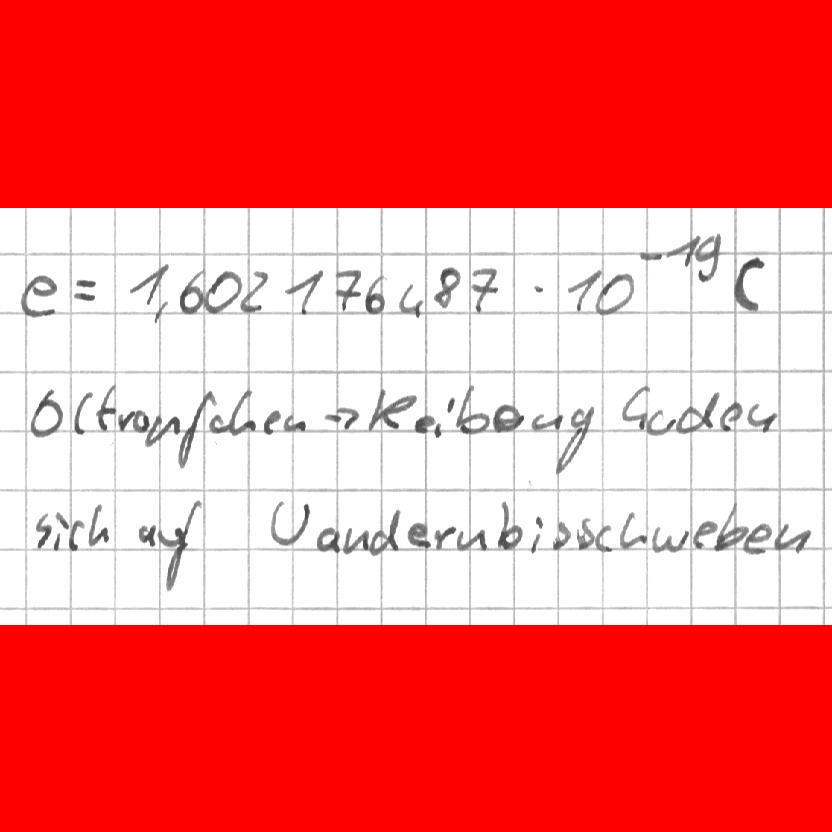Char: (163, 496, 203, 593), (551, 403, 597, 475), (174, 390, 215, 468), (730, 251, 768, 314), (367, 386, 417, 433), (674, 388, 720, 435), (282, 267, 325, 317), (27, 384, 66, 438), (712, 499, 749, 555), (15, 272, 60, 318), (593, 270, 638, 314), (269, 500, 311, 546), (455, 383, 491, 436), (202, 267, 240, 316), (127, 262, 170, 304), (467, 265, 503, 315), (565, 267, 601, 313), (616, 382, 649, 429), (227, 386, 257, 437), (142, 412, 183, 449), (370, 508, 402, 555), (332, 267, 363, 314), (694, 232, 723, 282), (238, 267, 268, 314), (177, 266, 205, 315), (497, 500, 525, 549), (432, 265, 464, 307), (775, 519, 812, 555), (616, 509, 648, 549), (86, 501, 113, 547), (743, 400, 778, 435), (395, 281, 426, 320), (93, 383, 117, 433), (664, 233, 700, 266), (71, 387, 94, 438), (362, 272, 389, 315), (650, 523, 690, 552), (493, 400, 527, 434), (740, 522, 774, 556), (454, 525, 492, 553), (322, 404, 362, 429), (433, 393, 455, 438), (646, 406, 677, 437), (71, 273, 104, 302), (717, 399, 745, 433), (341, 523, 370, 554), (313, 521, 340, 553), (691, 517, 716, 551), (528, 409, 563, 433), (51, 509, 70, 551), (34, 509, 53, 550), (530, 514, 547, 557), (150, 295, 176, 323), (406, 521, 431, 548), (431, 523, 456, 550), (577, 516, 595, 552), (135, 519, 157, 548), (553, 518, 572, 551), (157, 522, 181, 548), (261, 407, 281, 437), (69, 516, 85, 553), (130, 405, 151, 433), (282, 412, 308, 434), (596, 521, 615, 551), (413, 412, 436, 434), (207, 413, 229, 435), (115, 408, 134, 432), (637, 247, 663, 263), (528, 280, 546, 297)
